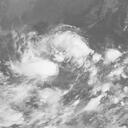cyclone: (30, 24, 89, 80)
